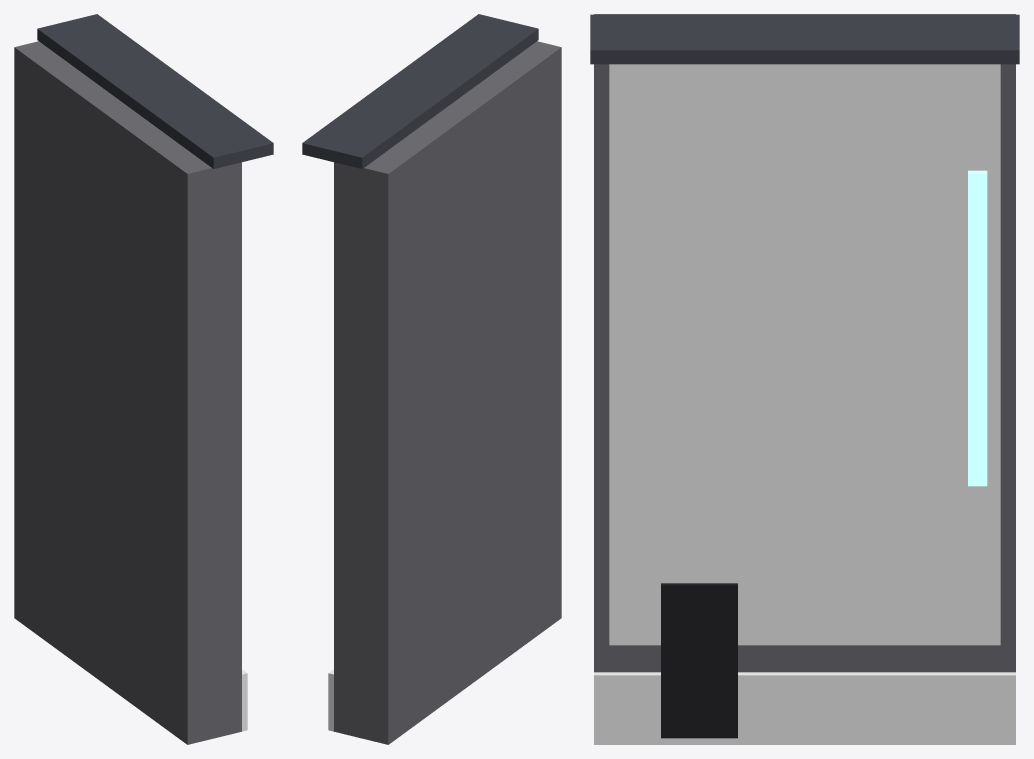
The model's file is SM_Building_A.fbx.
The picture shows the model from 3 angles, left to right: view 1: azimuth 30°, elevation 25°; view 2: azimuth 150°, elevation 25°; view 3: azimuth 270°, elevation 25°; orthographic projection. The views are drawn at different scales.
Visible parts, largest first — view 1: SM_Building_A; view 2: SM_Building_A; view 3: SM_Building_A.
Part boxes in pixels (x1,y1,x2,y2): SM_Building_A: [14, 14, 273, 744]; SM_Building_A: [302, 14, 561, 744]; SM_Building_A: [590, 14, 1019, 744].
Bounding box in the file's own units: 155 × 1020 × 560.
